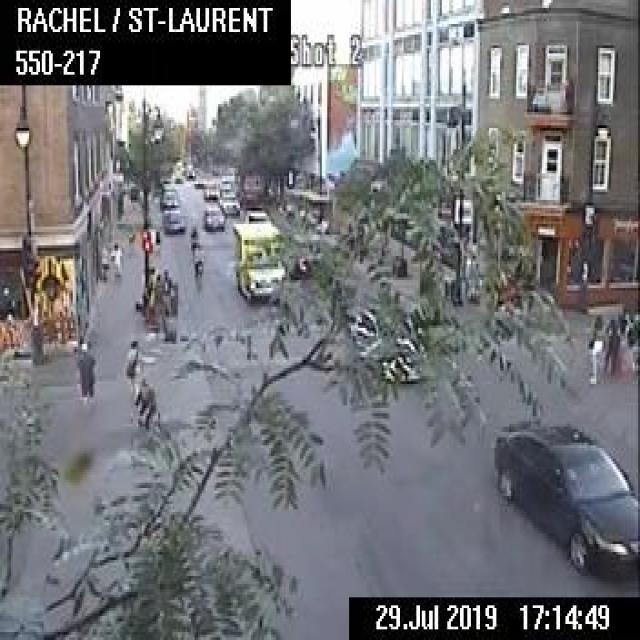cyclist: (130, 377, 158, 432), (193, 238, 201, 291), (188, 225, 196, 263)
pedestrian: (122, 338, 143, 399), (76, 341, 94, 402), (603, 312, 617, 373), (589, 331, 602, 384), (109, 238, 122, 278), (100, 242, 107, 280)
vehicle: (492, 423, 638, 579), (347, 303, 425, 380), (230, 218, 286, 302), (161, 207, 184, 231), (202, 205, 224, 228), (219, 194, 239, 215), (159, 188, 179, 206), (203, 180, 217, 196)
